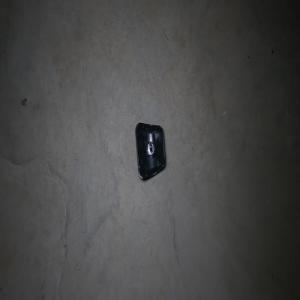LuggagePart: (134, 121, 166, 181)
